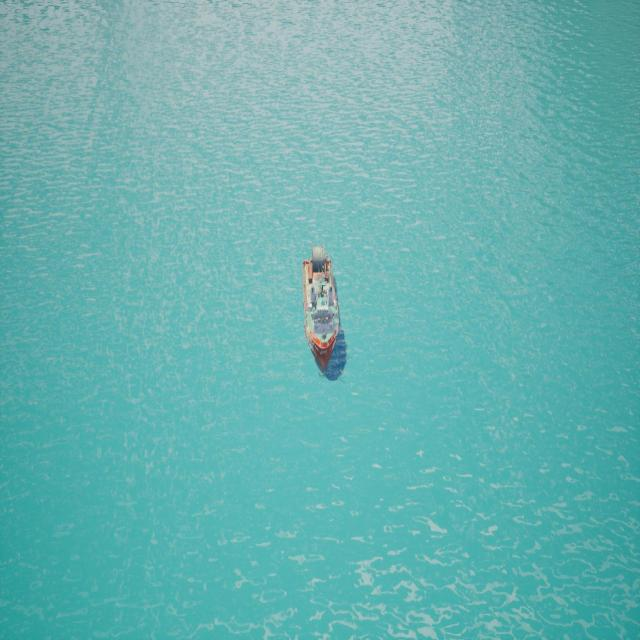tug boat: (302, 251, 342, 382)
